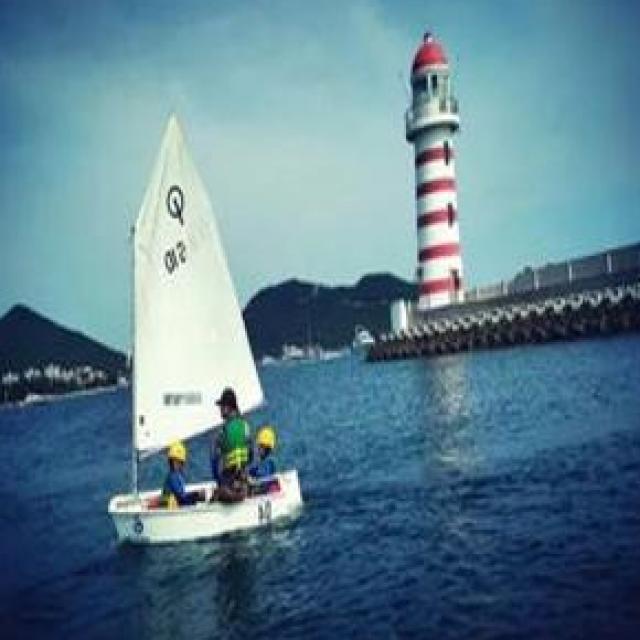sailboat: (106, 111, 308, 540)
